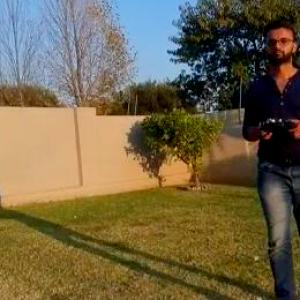follow: (239, 15, 300, 299)
